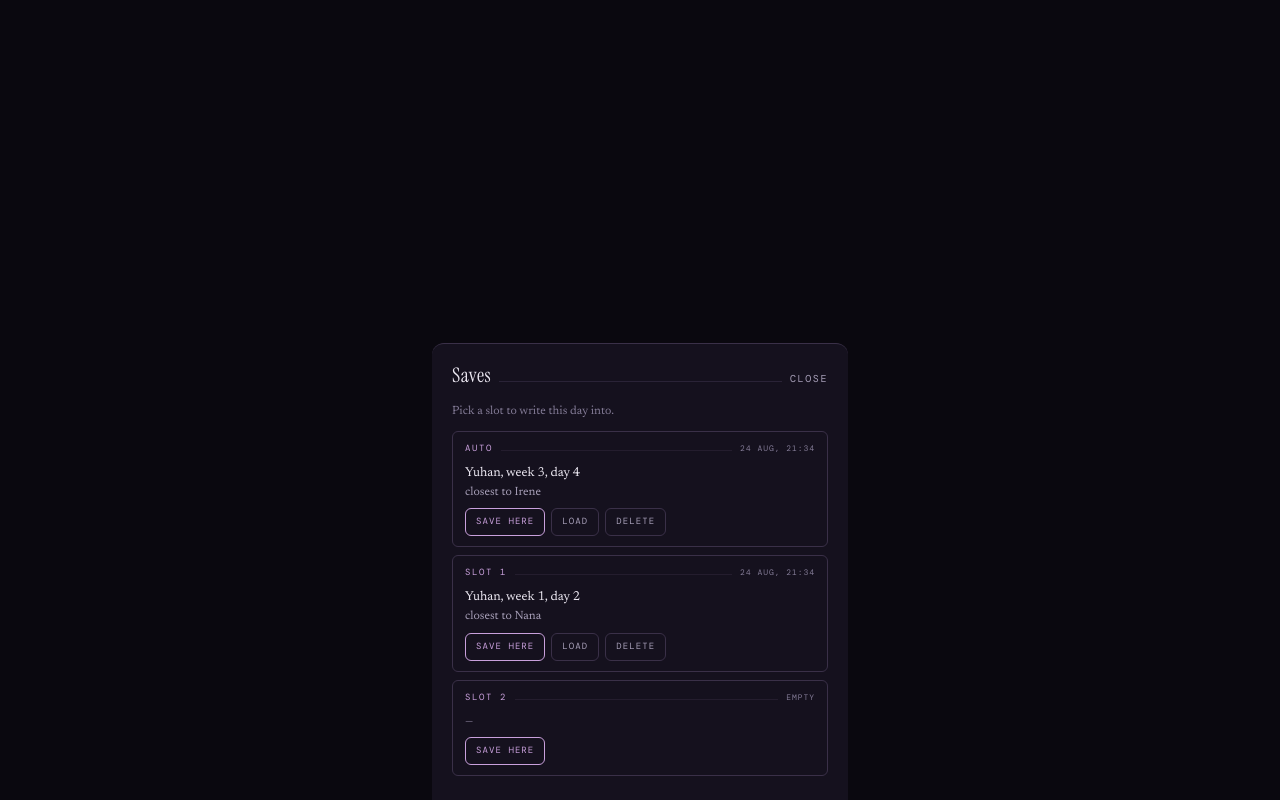
Test: the destructive pair › does not delete on the first tap
Click the button "Delete" below "Auto" at (636, 522), box 605,508 -> 666,536
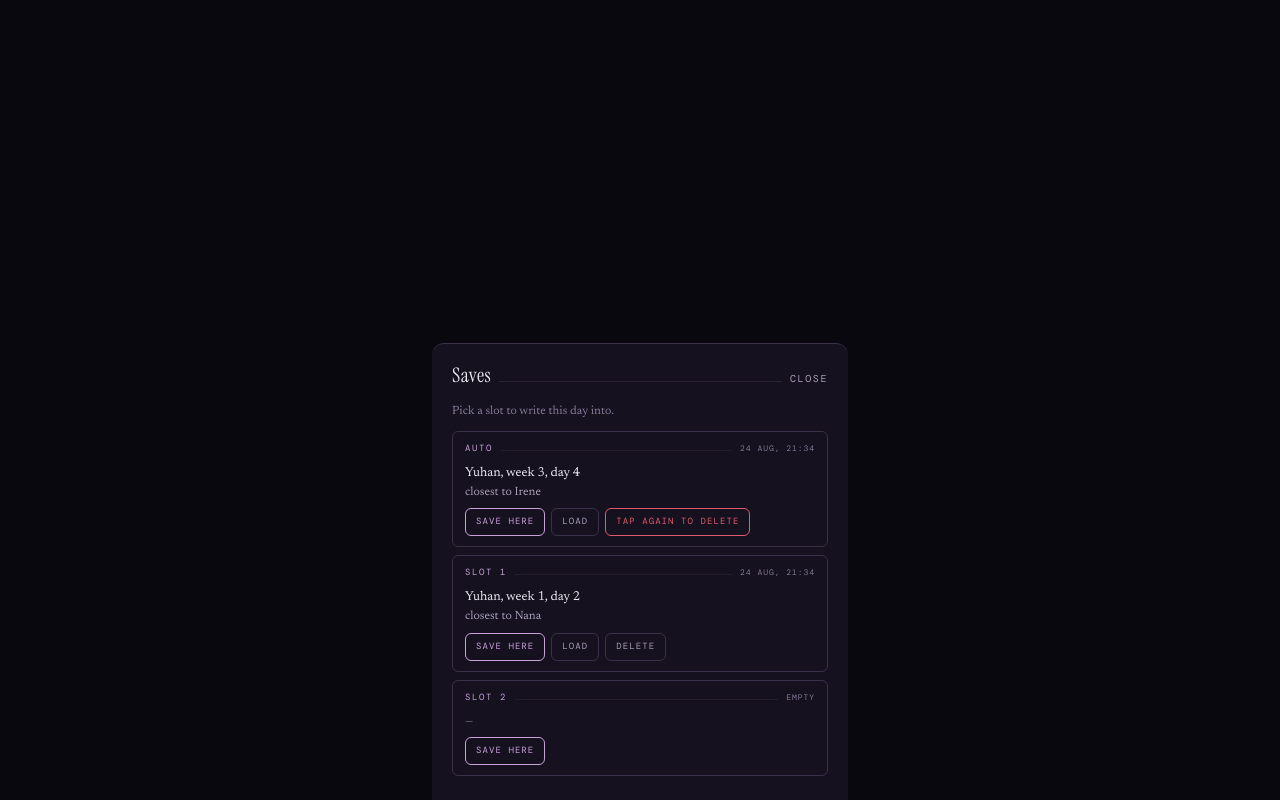
Expected: the button "Tap again to delete" is shown, 605,508 -> 750,536
